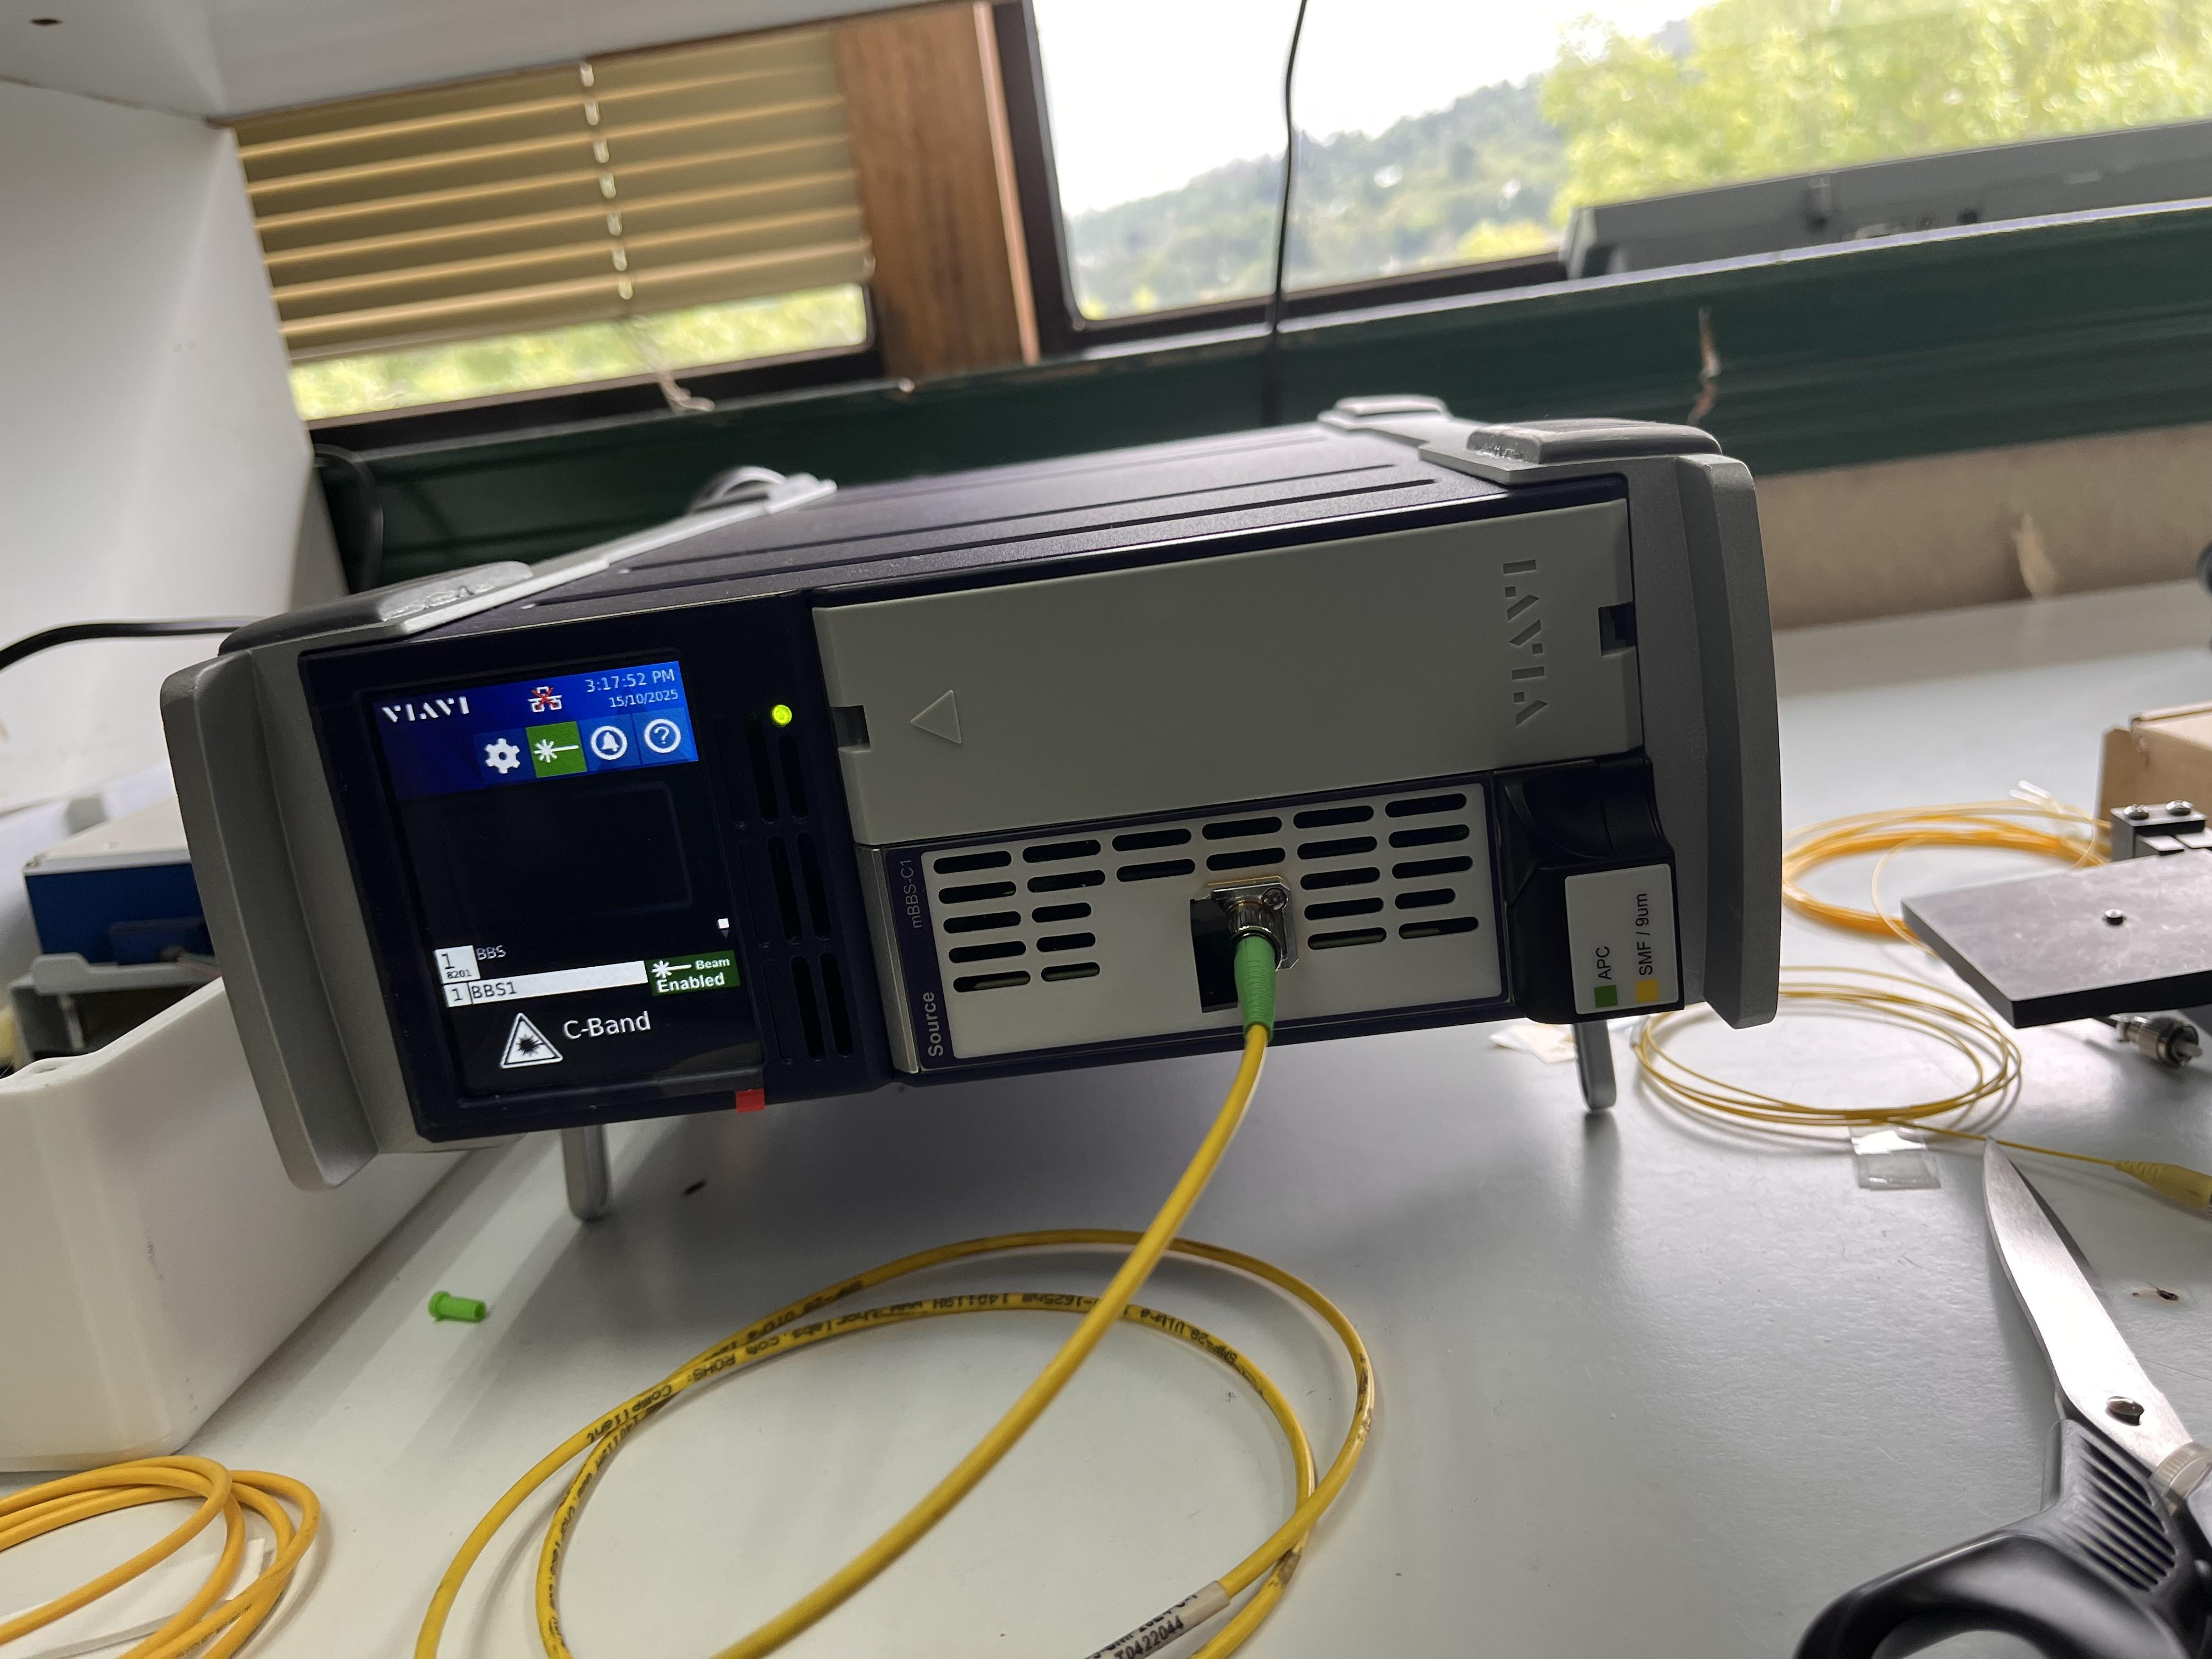laser: (124, 373, 1803, 1234)
